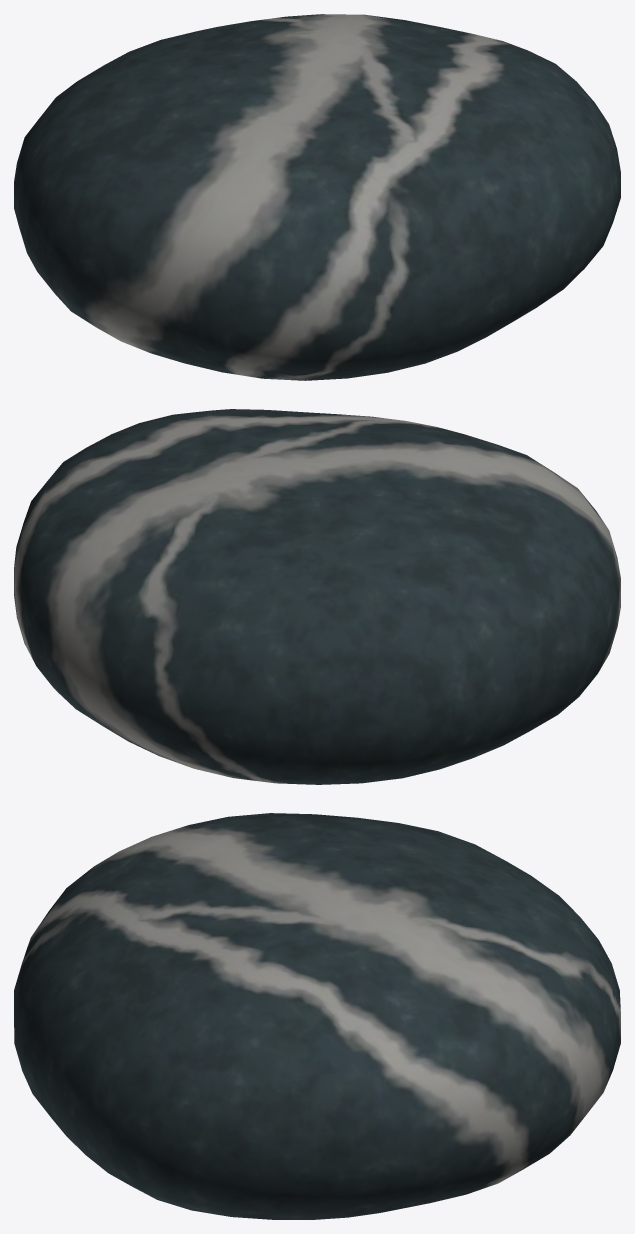
File: quartz_cobble_05.glb
The picture shows the model from 3 angles, top to bottom: view 1: azimuth 30°, elevation 25°; view 2: azimuth 150°, elevation 25°; view 3: azimuth 270°, elevation 25°; orthographic projection. The views are drawn at different scales.
Visible parts, largest first — view 1: quartz_cobble_05; view 2: quartz_cobble_05; view 3: quartz_cobble_05.
Part boxes in pixels (box(x1,y1,x2,y2)): quartz_cobble_05: box(14, 14, 620, 380); quartz_cobble_05: box(14, 409, 620, 784); quartz_cobble_05: box(14, 813, 620, 1219).
Size of the model in its own units: 0.063 by 0.0284 by 0.0578.
1 material, 1 textured.
